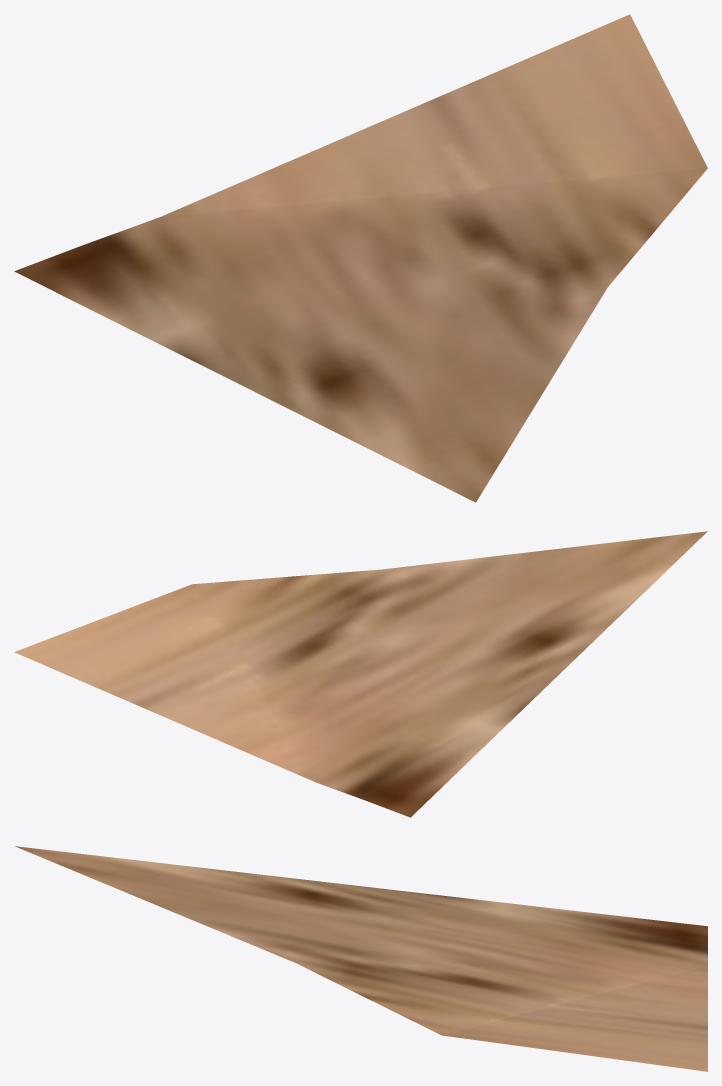
3 renders of one model, top to bottom at view 1: azimuth 30°, elevation 25°; view 2: azimuth 150°, elevation 25°; view 3: azimuth 270°, elevation 25°, orthographic. The views are drawn at different scales.
Bounding box in the file's own units: 0.4508 × 0.0746 × 0.5853.
Materials: 1 (1 with a texture image).
